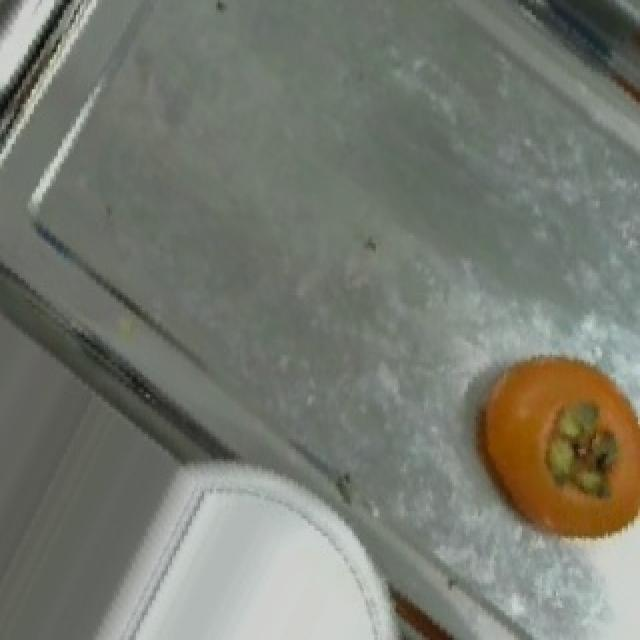Fruit: (116, 469, 404, 640), (454, 335, 638, 565)
